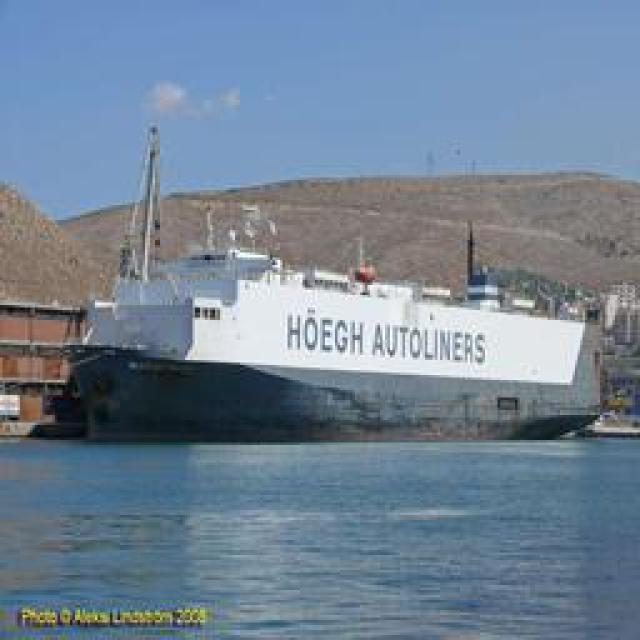Ship: (49, 149, 609, 432)
